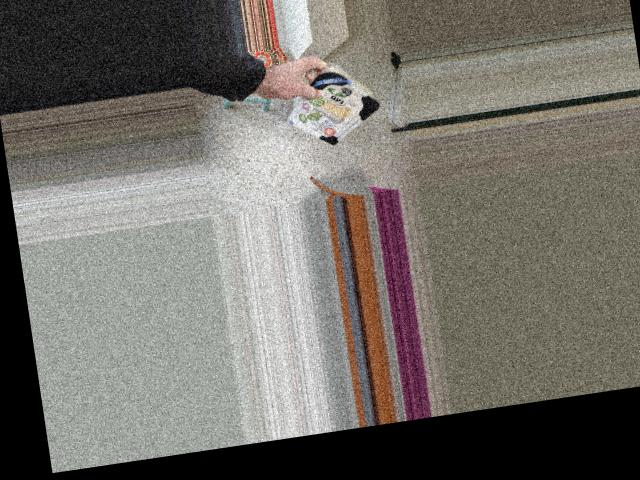cheese: (292, 42, 383, 158)
